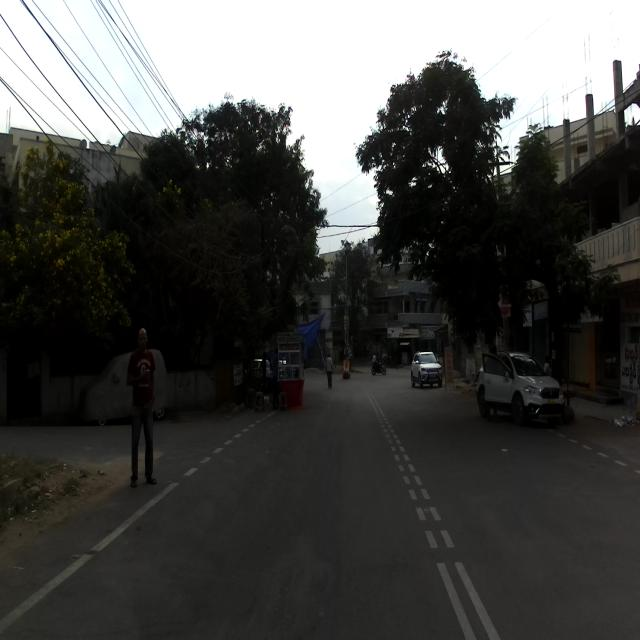person ahead at: (466, 346, 563, 434)
